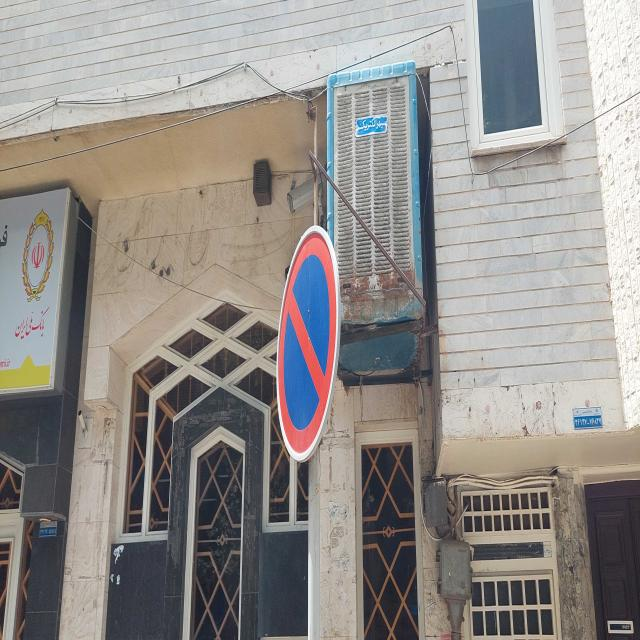forb_stopping: (276, 227, 341, 463)
